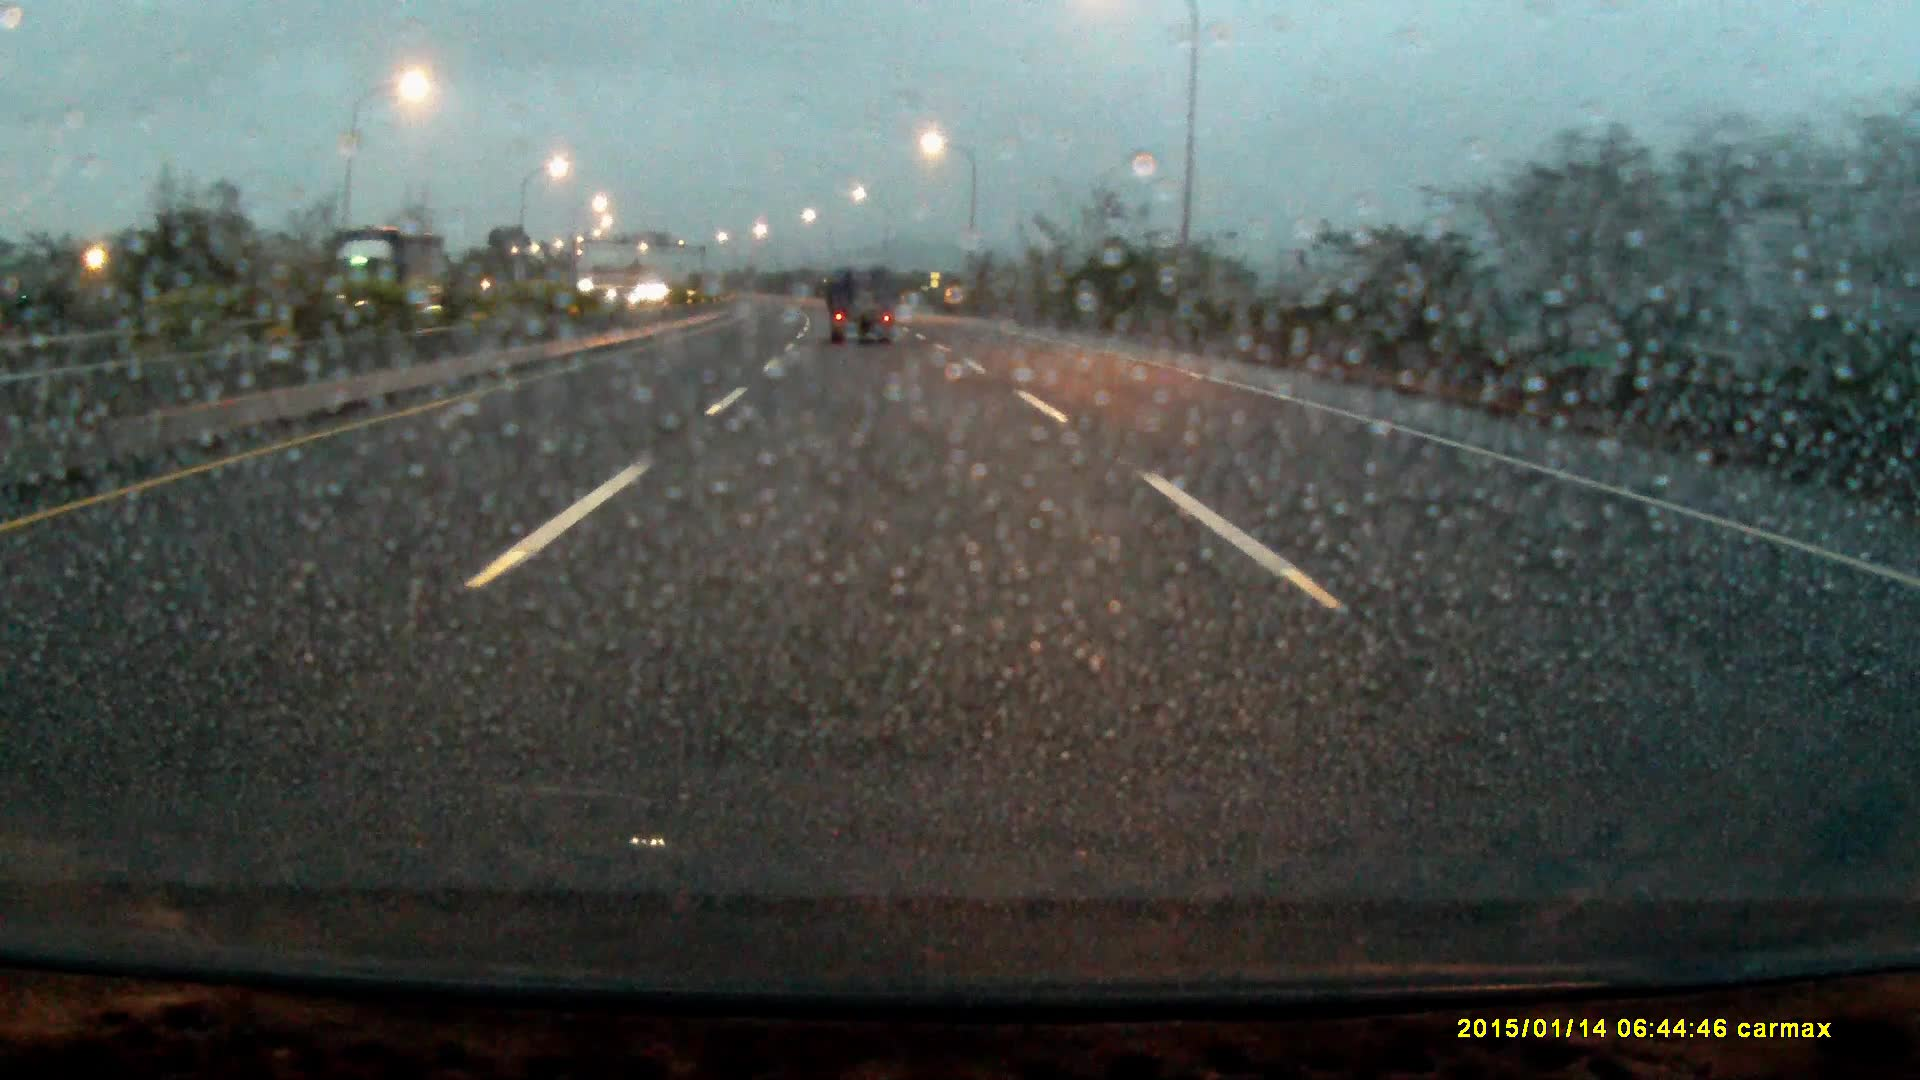vehicle: (311, 231, 458, 339), (828, 274, 901, 349)
